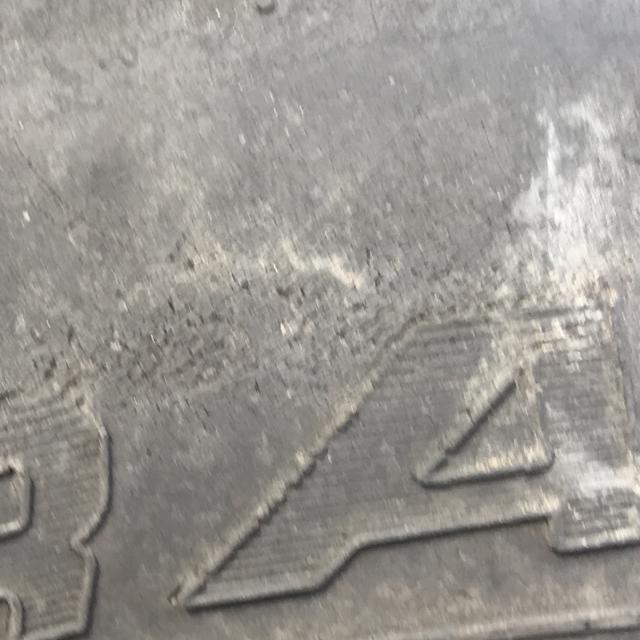Cracks: (2, 167, 640, 466)
